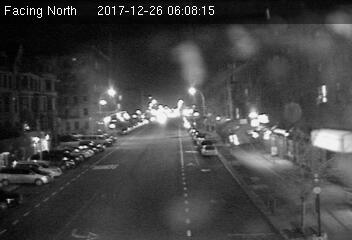car: (200, 143, 219, 156)
